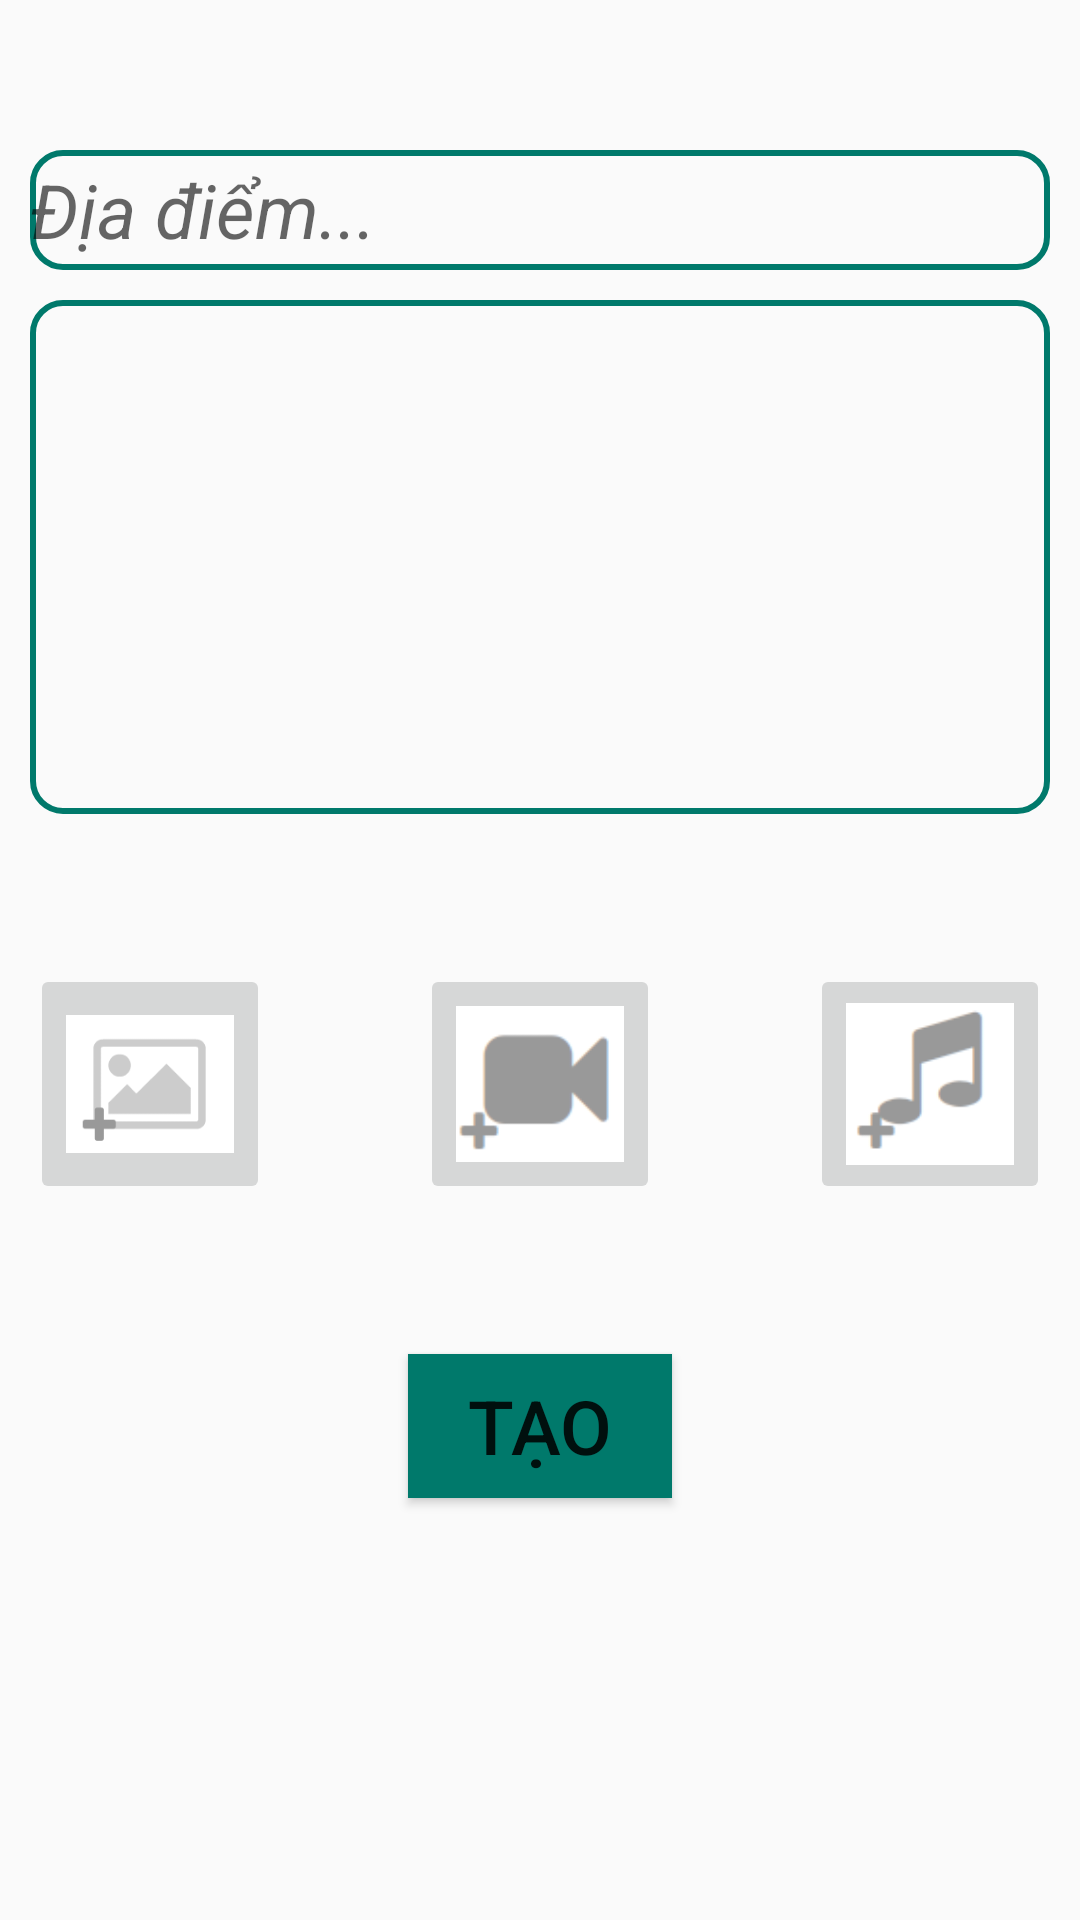

Screen size 1080 x 1920. Icon name, then its box in pixels as {"left": x1, "top": y1, "right": x2, "bottom": y2}:
activity add diary mp: {"left": 822, "top": 982, "right": 1038, "bottom": 1186}
activity add diary video: {"left": 432, "top": 982, "right": 648, "bottom": 1186}
